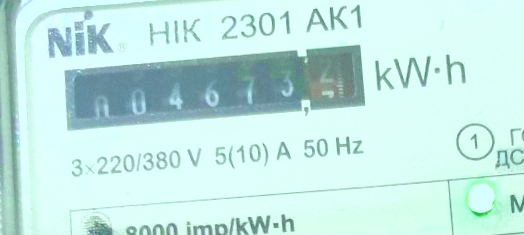0: (89, 90, 111, 121), (126, 85, 147, 117)
2: (313, 53, 336, 86)
3: (275, 65, 295, 101)
4: (164, 78, 185, 114)
6: (198, 75, 222, 110)
7: (236, 71, 261, 110)
screen: (56, 39, 371, 141)
